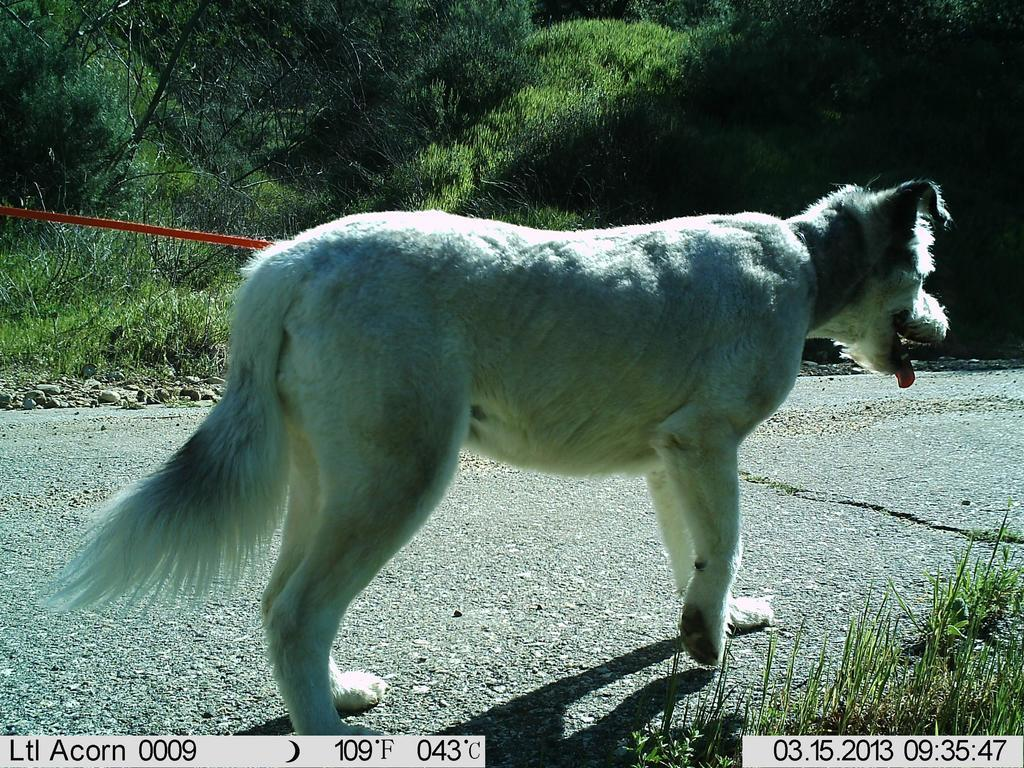dog: (66, 133, 968, 734)
